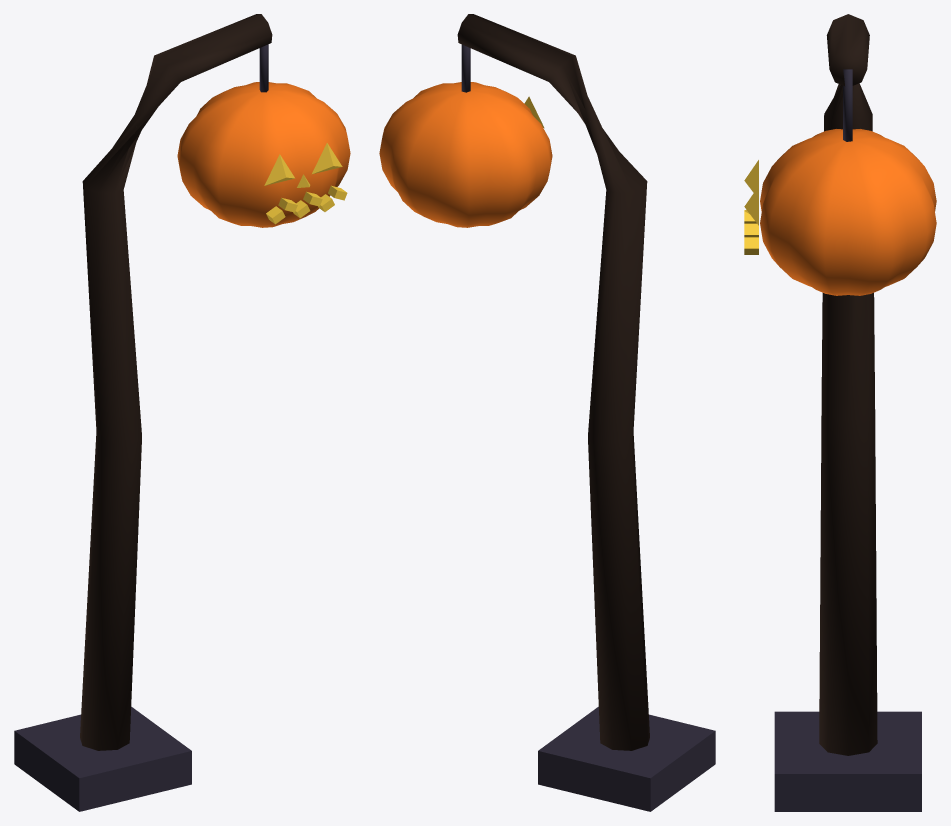
The model's file is P_JackLantern.fbx.
The picture shows the model from 3 angles, left to right: view 1: azimuth 30°, elevation 25°; view 2: azimuth 150°, elevation 25°; view 3: azimuth 270°, elevation 25°; orthographic projection. The views are drawn at different scales.
Parts seen in each view (by area): view 1: P_JackLantern__Post, P_JackLantern__Pumpkin, P_JackLantern__Iron, P_JackLantern__Glow; view 2: P_JackLantern__Post, P_JackLantern__Pumpkin, P_JackLantern__Iron; view 3: P_JackLantern__Post, P_JackLantern__Pumpkin, P_JackLantern__Iron, P_JackLantern__Glow.
Boxes of the visible parts, bbox=[...] form: P_JackLantern__Post: bbox=[80, 14, 272, 750]; P_JackLantern__Pumpkin: bbox=[177, 82, 350, 227]; P_JackLantern__Iron: bbox=[14, 44, 268, 811]; P_JackLantern__Glow: bbox=[264, 143, 347, 224]; P_JackLantern__Post: bbox=[457, 14, 649, 750]; P_JackLantern__Pumpkin: bbox=[379, 82, 552, 227]; P_JackLantern__Iron: bbox=[461, 44, 715, 811]; P_JackLantern__Post: bbox=[819, 14, 877, 755]; P_JackLantern__Pumpkin: bbox=[760, 129, 936, 295]; P_JackLantern__Iron: bbox=[774, 69, 921, 811]; P_JackLantern__Glow: bbox=[744, 160, 758, 254].
Bounding box in the file's own units: 3.62 × 8.59 × 1.83.
